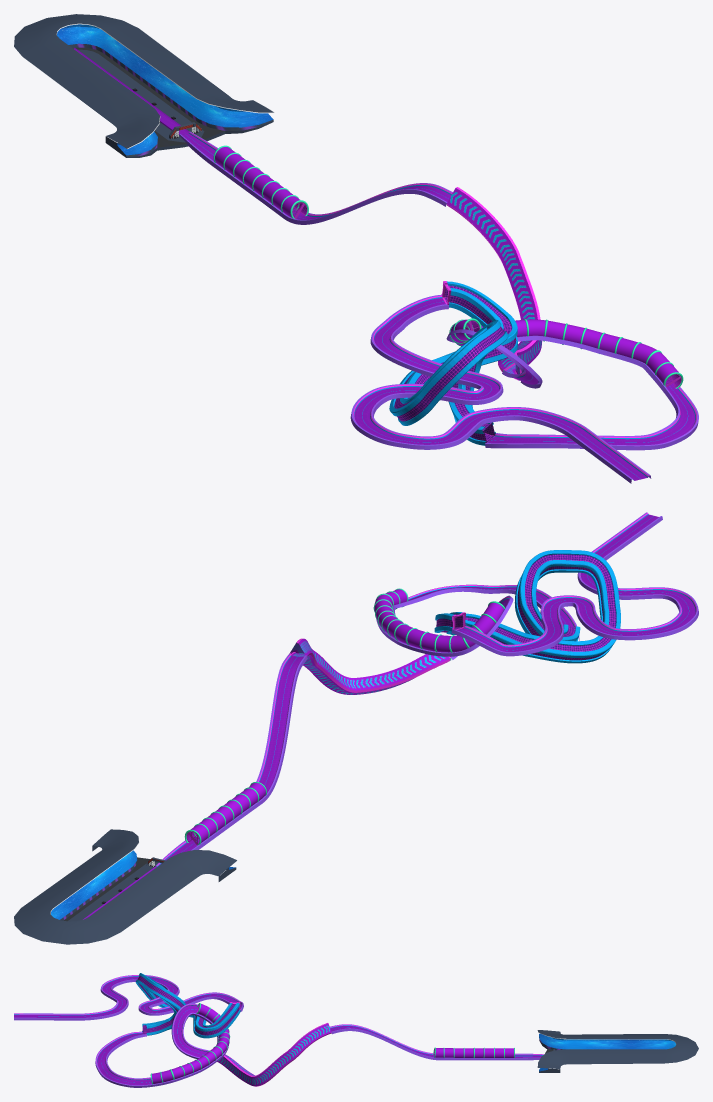
The model's file is Road_4_Model.FBX.
3 renders of one model, top to bottom at view 1: azimuth 30°, elevation 25°; view 2: azimuth 150°, elevation 25°; view 3: azimuth 270°, elevation 25°, orthographic. The views are drawn at different scales.
Visible parts, largest first — view 1: Road_4, Finish_004; view 2: Road_4, Finish_004; view 3: Road_4, Finish_004.
Boxes of the visible parts, left/top/right/bottom form: Road_4: left=179, top=131, right=698, bottom=483; Finish_004: left=14, top=14, right=274, bottom=157; Road_4: left=155, top=512, right=698, bottom=866; Finish_004: left=14, top=829, right=236, bottom=944; Road_4: left=14, top=973, right=543, bottom=1087; Finish_004: left=537, top=1030, right=698, bottom=1072.
Bounding box in the file's own units: 503 × 191 × 1701.
